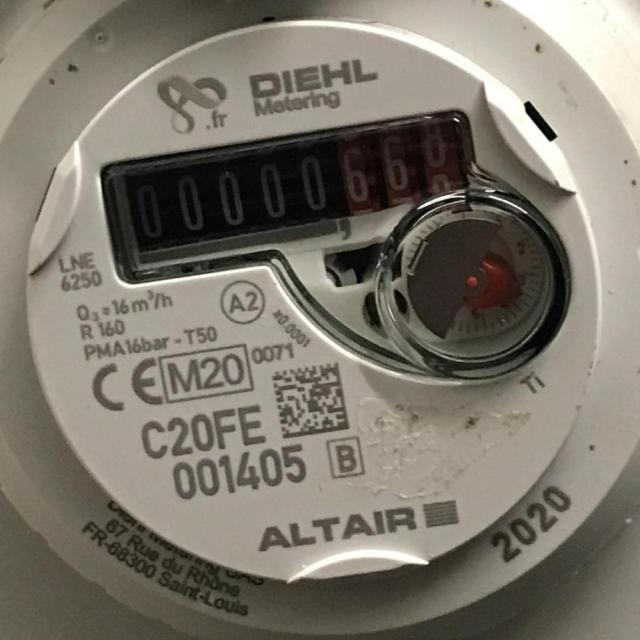gaz_meter: (23, 18, 603, 580)
indication: (98, 111, 476, 282)
